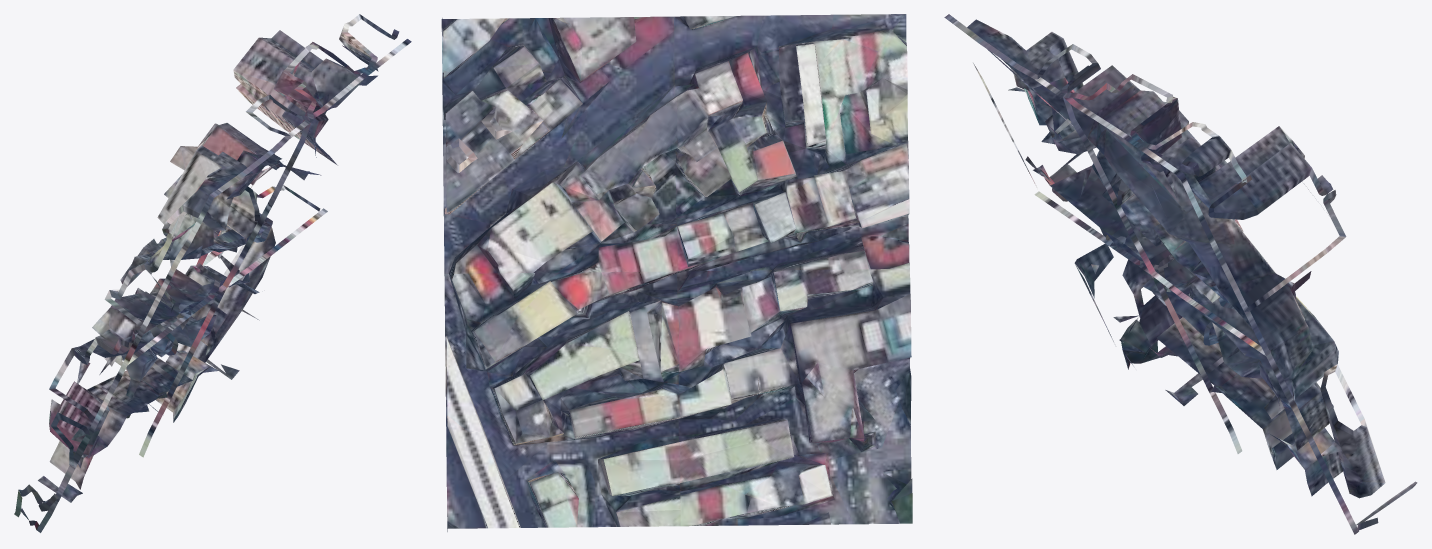
3 views of the same model, side by side, from view 1: azimuth 30°, elevation 25°; view 2: azimuth 150°, elevation 25°; view 3: azimuth 270°, elevation 25° (orthographic). The views are drawn at different scales.
Size of the model in its own units: 157 by 147 by 147.
2 materials, 2 textured.
